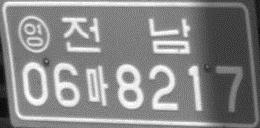0: (20, 60, 48, 107)
1: (182, 64, 209, 112)
2: (148, 63, 179, 111)
6: (52, 61, 81, 108)
7: (215, 64, 244, 112)
8: (114, 63, 144, 110)
마: (84, 64, 109, 107)
영: (16, 14, 51, 54)
전남_D: (60, 15, 191, 55)
